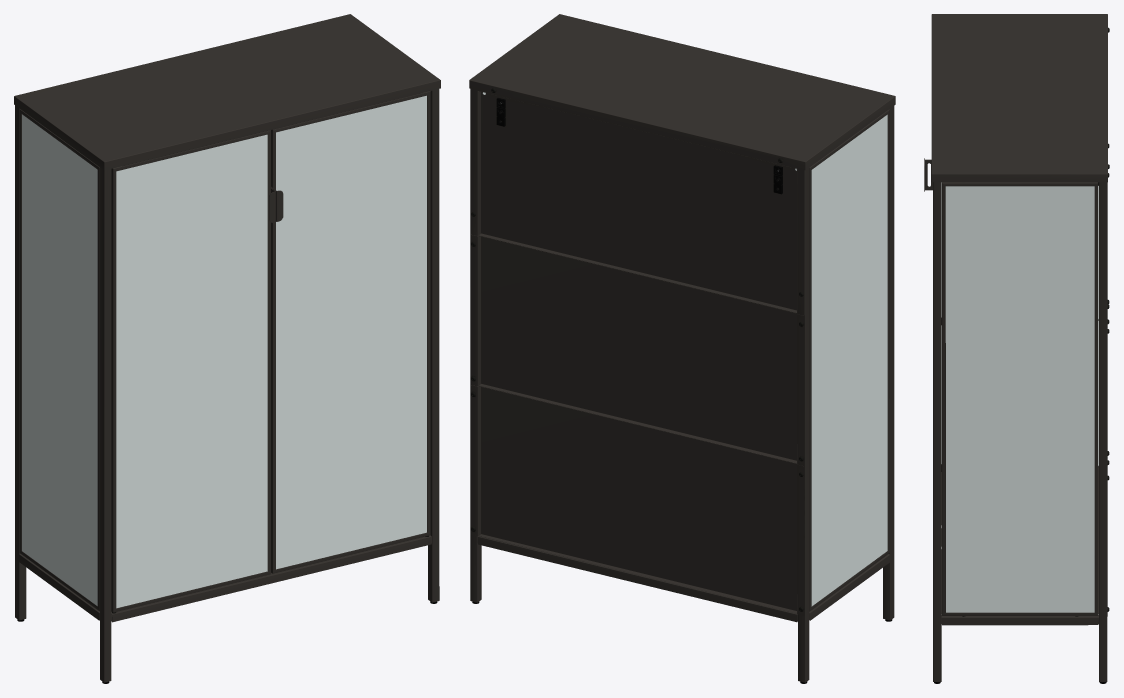
File: 14 - RUDSTA Glass-door cabinet - anthracite 80x37x120 cm.glb
3 views of the same model, side by side, from view 1: azimuth 30°, elevation 25°; view 2: azimuth 150°, elevation 25°; view 3: azimuth 270°, elevation 25° (orthographic). The views are drawn at different scales.
Size of the model in its own units: 0.805 by 1.2 by 0.3933.
Materials: 2 (2 with a texture image).
